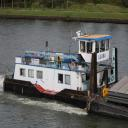tugboat: (4, 32, 121, 111)
